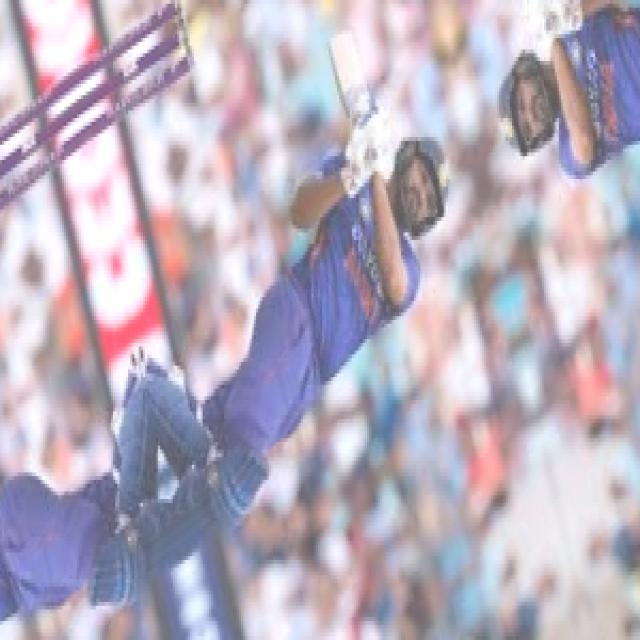toe: (321, 24, 362, 51)
